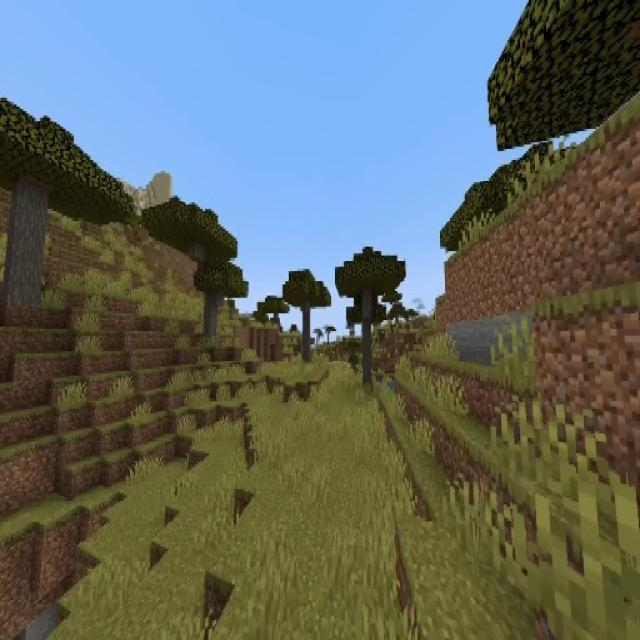acacia: (0, 98, 127, 303), (139, 197, 250, 337), (336, 243, 405, 388), (282, 269, 332, 360)
acacia_log: (5, 184, 46, 306), (362, 290, 372, 385), (302, 306, 310, 362), (205, 296, 216, 334)
